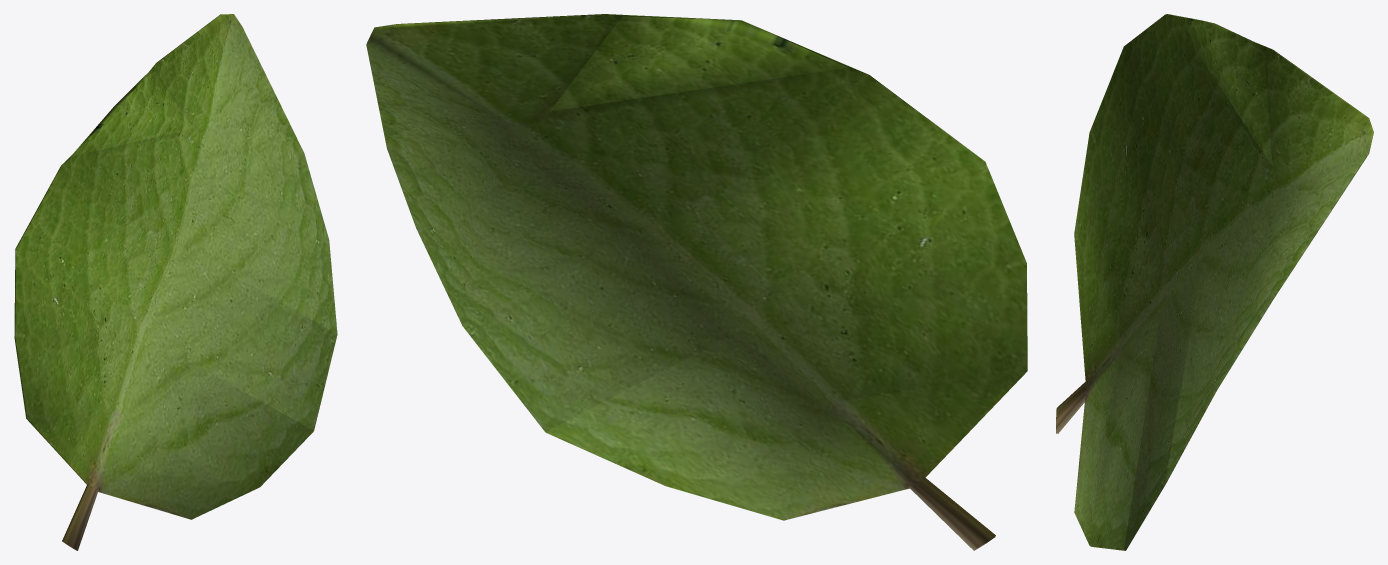
The model's file is Leaf.obj.
3 renders of one model, left to right at view 1: azimuth 30°, elevation 25°; view 2: azimuth 150°, elevation 25°; view 3: azimuth 270°, elevation 25°, orthographic. The views are drawn at different scales.
Visible parts, largest first — view 1: Oregano_Leaf_Export_Plane.001; view 2: Oregano_Leaf_Export_Plane.001; view 3: Oregano_Leaf_Export_Plane.001.
Part boxes in pixels (box(x1,y1,x2,y2)): Oregano_Leaf_Export_Plane.001: box(14, 14, 337, 550); Oregano_Leaf_Export_Plane.001: box(366, 14, 1027, 550); Oregano_Leaf_Export_Plane.001: box(1056, 14, 1373, 550).
Bounding box in the file's own units: 2.33 × 2.38 × 1.4.
